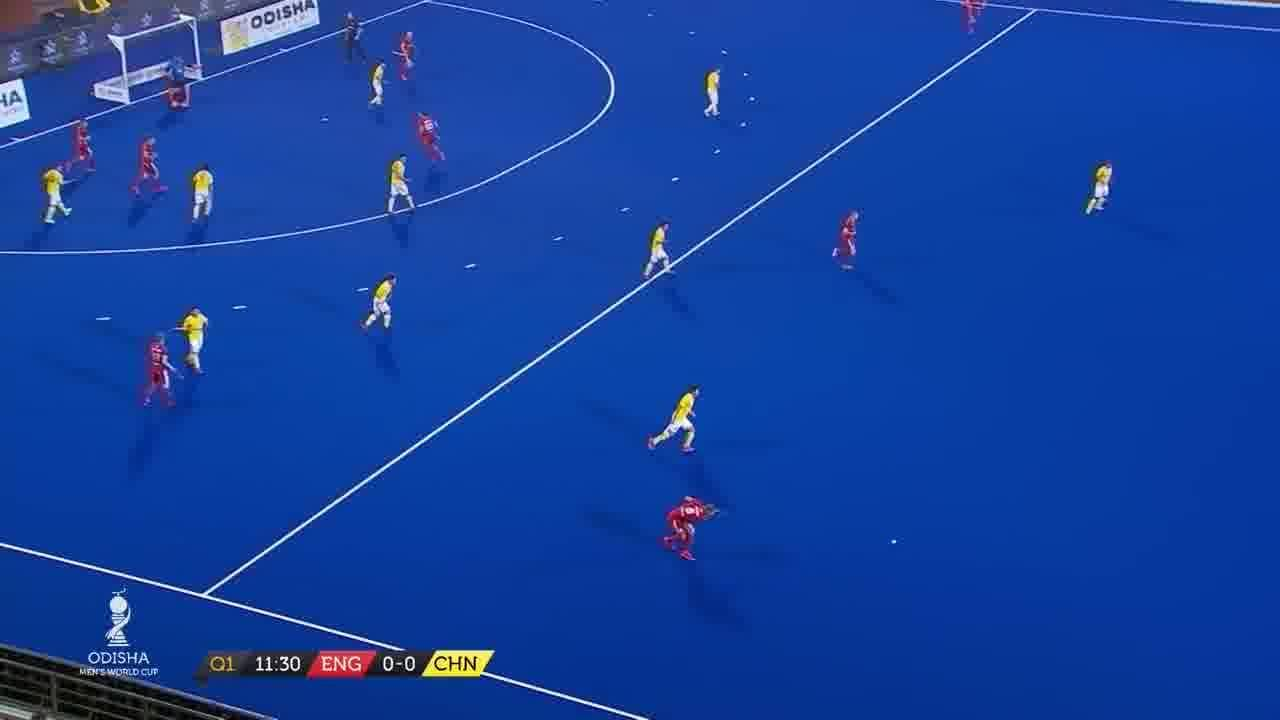ball: (891, 534, 903, 551)
